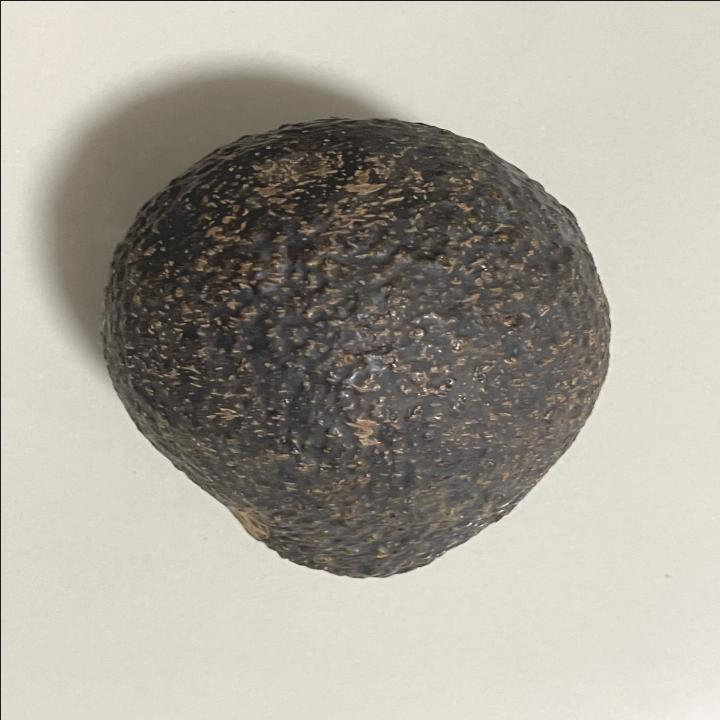Level2: (90, 107, 620, 590)
